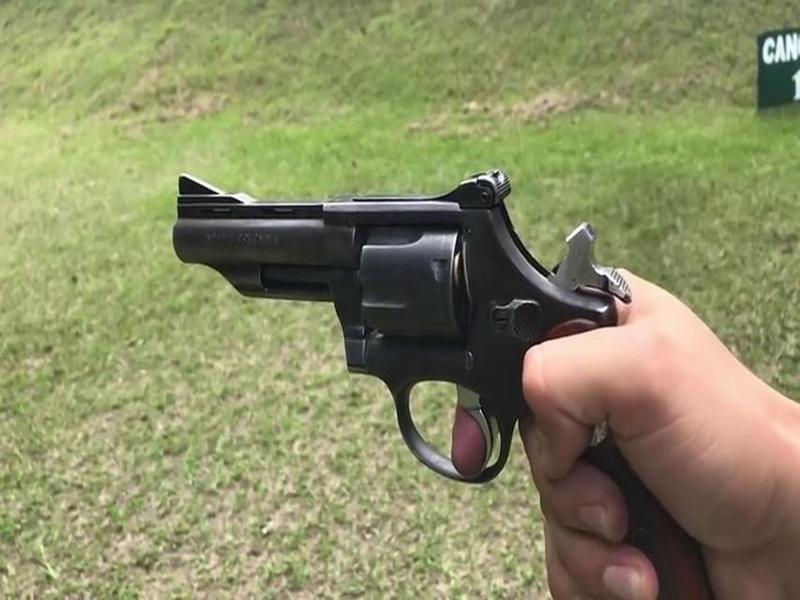Revolver: (155, 163, 693, 534)
